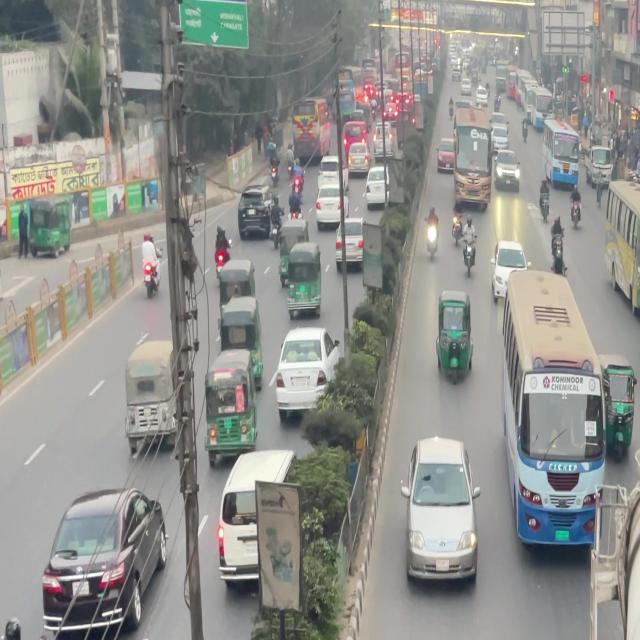bus: (503, 267, 608, 558), (410, 434, 481, 590), (206, 346, 265, 464), (127, 336, 179, 453), (601, 181, 640, 318), (13, 197, 82, 260), (452, 124, 490, 215), (280, 243, 319, 315)
car: (40, 490, 167, 637), (218, 447, 302, 590), (274, 329, 340, 419), (240, 188, 282, 242), (315, 171, 344, 230), (490, 154, 520, 198)
rickshaw: (427, 284, 478, 387), (600, 361, 639, 461)
